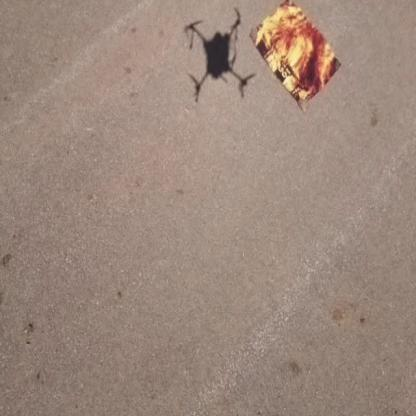fire-poster: (249, 0, 342, 114)
